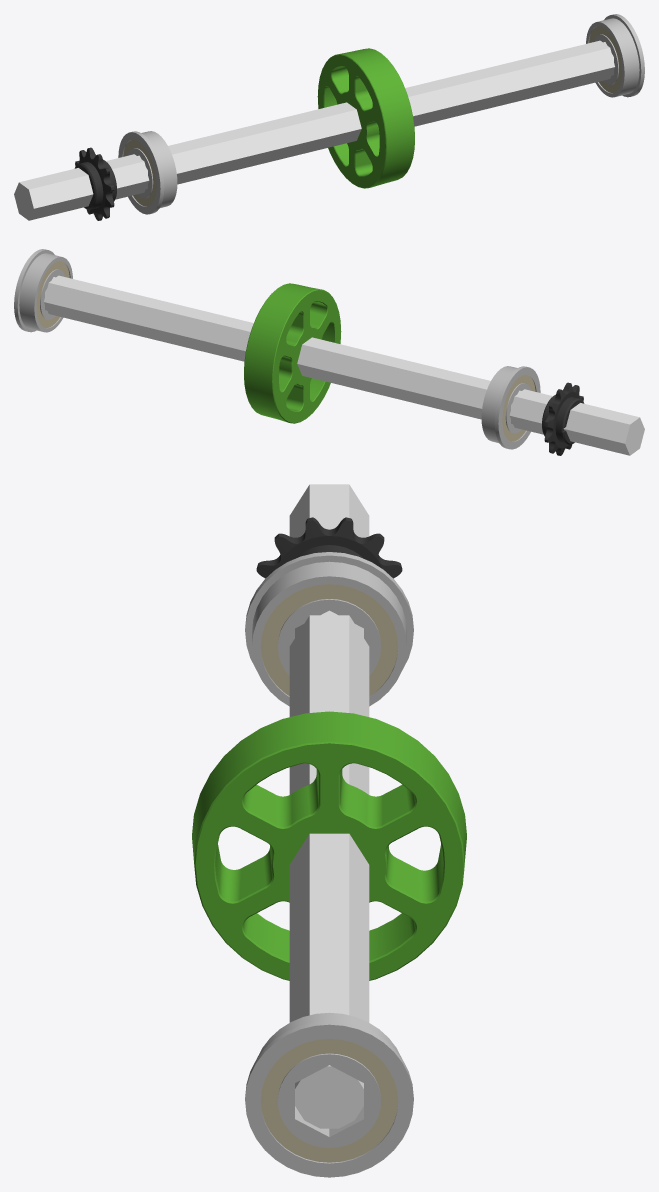
The picture shows the model from 3 angles, top to bottom: view 1: azimuth 30°, elevation 25°; view 2: azimuth 150°, elevation 25°; view 3: azimuth 270°, elevation 25°; orthographic projection. The views are drawn at different scales.
Parts seen in each view (by area): view 1: 1/2" Hex (10" L, 7075 Aluminum), 2" Compliant Wheel (35A, 3/4" Wide, 1/2" Hex Stretch Bore), 1/2" Hex Bore Bearing (1.125" OD, 0.313" WD, Shielded, Flang (×2), 12t Steel Sprocket (#25, 1/2" Rounded Hex Bore, Double Hub); view 2: 1/2" Hex (10" L, 7075 Aluminum), 2" Compliant Wheel (35A, 3/4" Wide, 1/2" Hex Stretch Bore), 1/2" Hex Bore Bearing (1.125" OD, 0.313" WD, Shielded, Flang (×2), 12t Steel Sprocket (#25, 1/2" Rounded Hex Bore, Double Hub); view 3: 2" Compliant Wheel (35A, 3/4" Wide, 1/2" Hex Stretch Bore), 1/2" Hex Bore Bearing (1.125" OD, 0.313" WD, Shielded, Flang (×2), 1/2" Hex (10" L, 7075 Aluminum), 12t Steel Sprocket (#25, 1/2" Rounded Hex Bore, Double Hub).
Boxes of the visible parts, x1,y1,x2,y2 form: 1/2" Hex (10" L, 7075 Aluminum): [14, 40, 614, 220]; 2" Compliant Wheel (35A, 3/4" Wide, 1/2" Hex Stretch Bore): [317, 48, 414, 188]; 1/2" Hex Bore Bearing (1.125" OD, 0.313" WD, Shielded, Flang (×2): [118, 14, 644, 214]; 12t Steel Sprocket (#25, 1/2" Rounded Hex Bore, Double Hub): [74, 147, 116, 220]; 1/2" Hex (10" L, 7075 Aluminum): [44, 275, 644, 455]; 2" Compliant Wheel (35A, 3/4" Wide, 1/2" Hex Stretch Bore): [244, 283, 341, 423]; 1/2" Hex Bore Bearing (1.125" OD, 0.313" WD, Shielded, Flang (×2): [14, 249, 540, 449]; 12t Steel Sprocket (#25, 1/2" Rounded Hex Bore, Double Hub): [542, 382, 584, 455]; 2" Compliant Wheel (35A, 3/4" Wide, 1/2" Hex Stretch Bore): [192, 711, 466, 980]; 1/2" Hex Bore Bearing (1.125" OD, 0.313" WD, Shielded, Flang (×2): [245, 552, 413, 1177]; 1/2" Hex (10" L, 7075 Aluminum): [289, 484, 369, 1128]; 12t Steel Sprocket (#25, 1/2" Rounded Hex Bore, Double Hub): [256, 517, 402, 578].
Bounding box in the file's own units: 0.2556 × 0.0508 × 0.0508.
